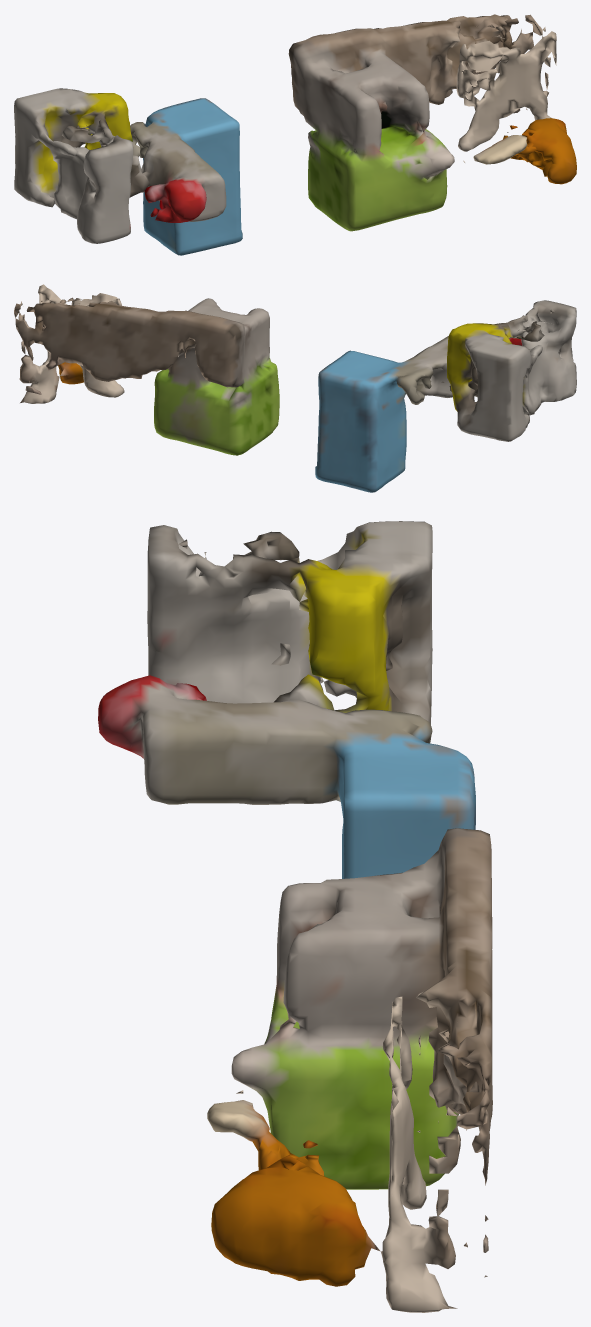
File: blocks.glb
The picture shows the model from 3 angles, top to bottom: view 1: azimuth 30°, elevation 25°; view 2: azimuth 150°, elevation 25°; view 3: azimuth 270°, elevation 25°; orthographic projection. The views are drawn at different scales.
Size of the model in its own units: 1 by 0.3223 by 0.349.
